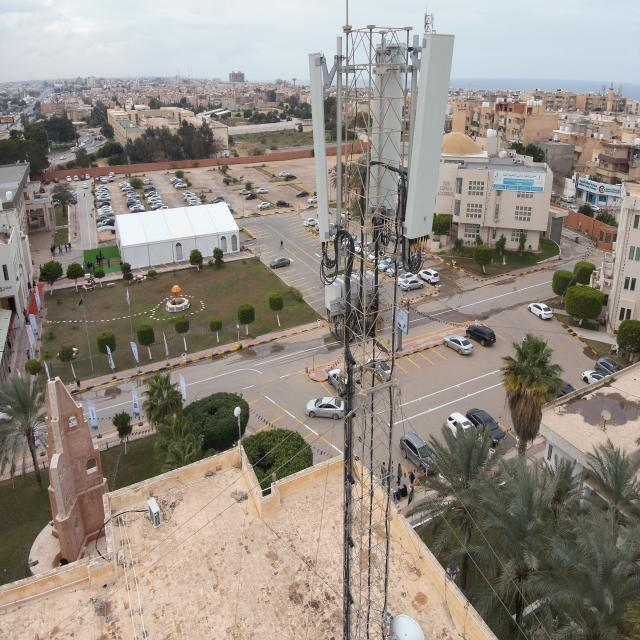antenna: (400, 27, 460, 242), (299, 44, 339, 244), (367, 36, 408, 207)
lighnig-rad: (344, 0, 351, 29)
radio-unit: (323, 264, 379, 318)
